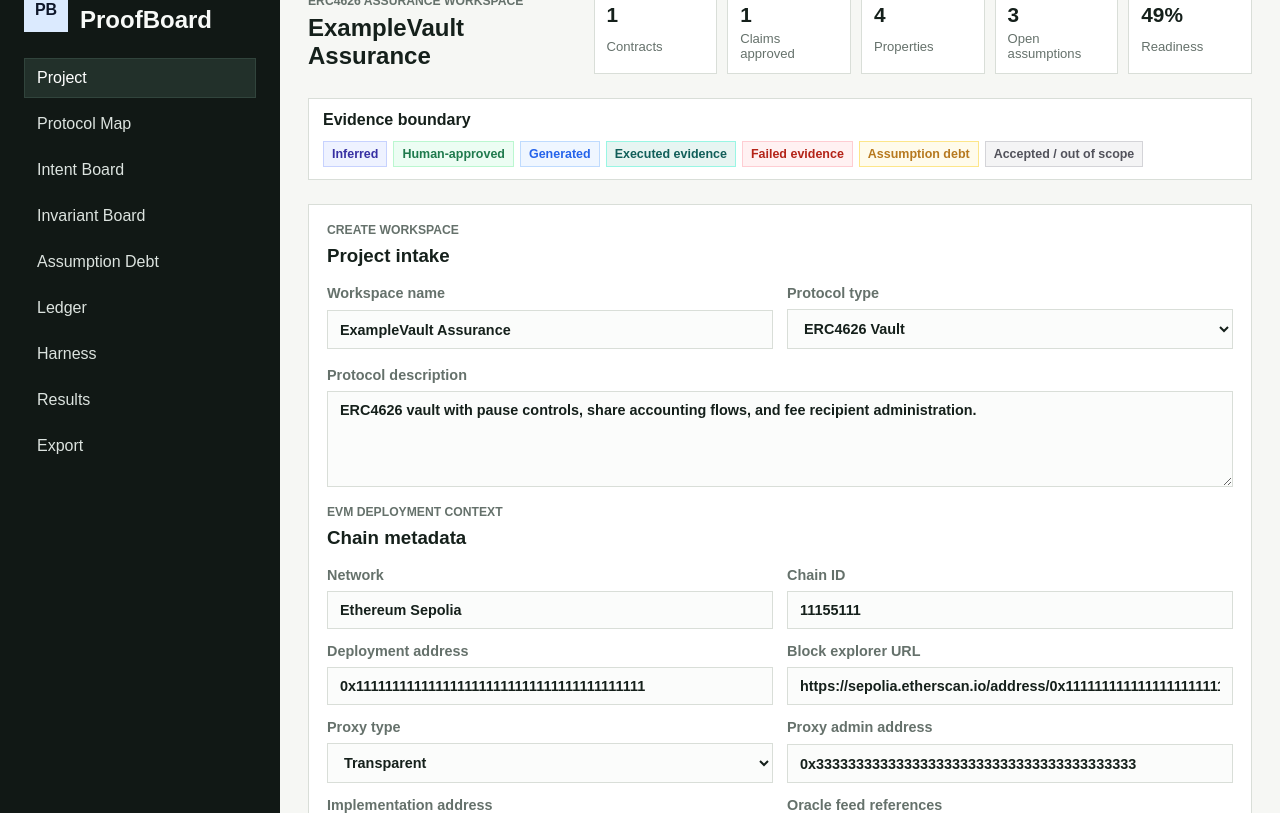
Scenario: ProofBoard workspace › shows runner validation failures without changing output
This screenshot has width=1280, height=813.
Click the button "Results": (140, 400) [24,380,256,420]
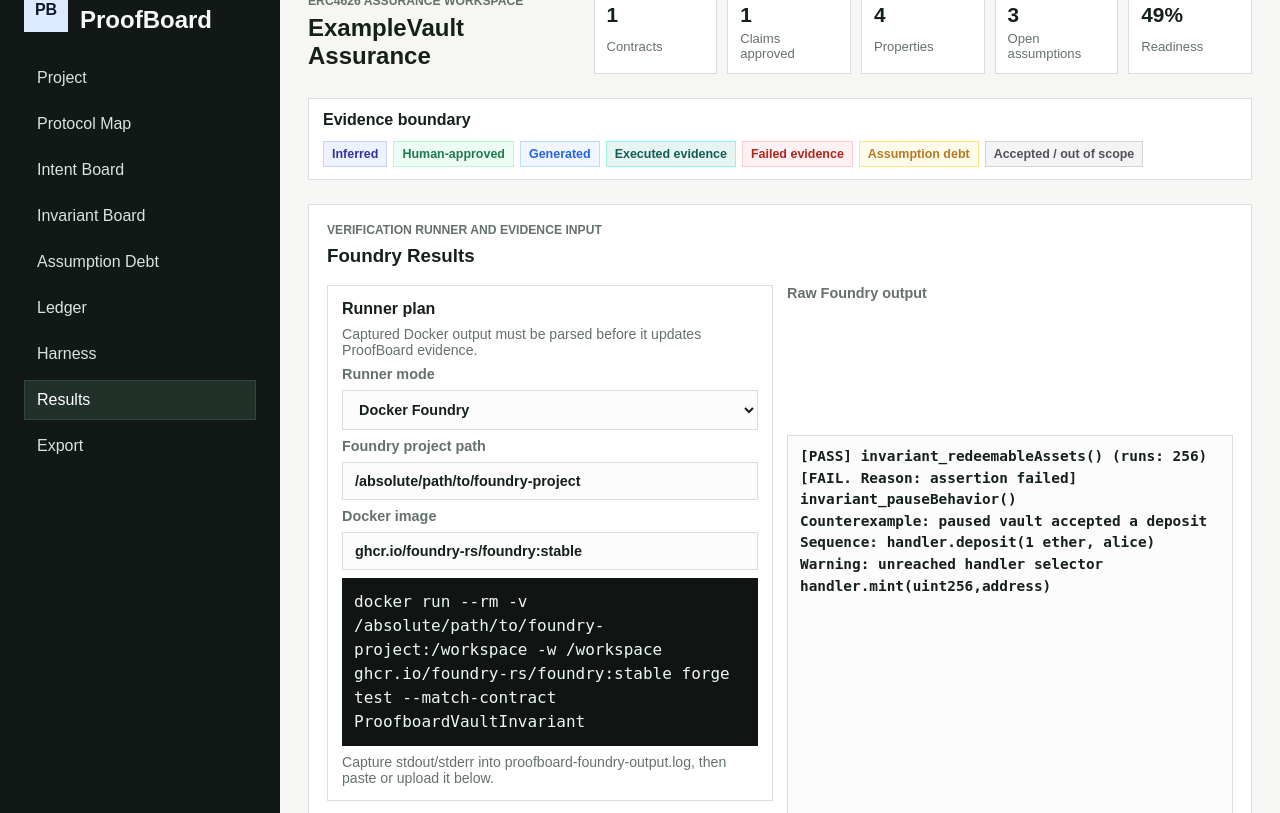
Replace the text in the field labelled "Foundry project path" with "relative-path": (550, 481) [342,462,758,500]
(page scrolled)
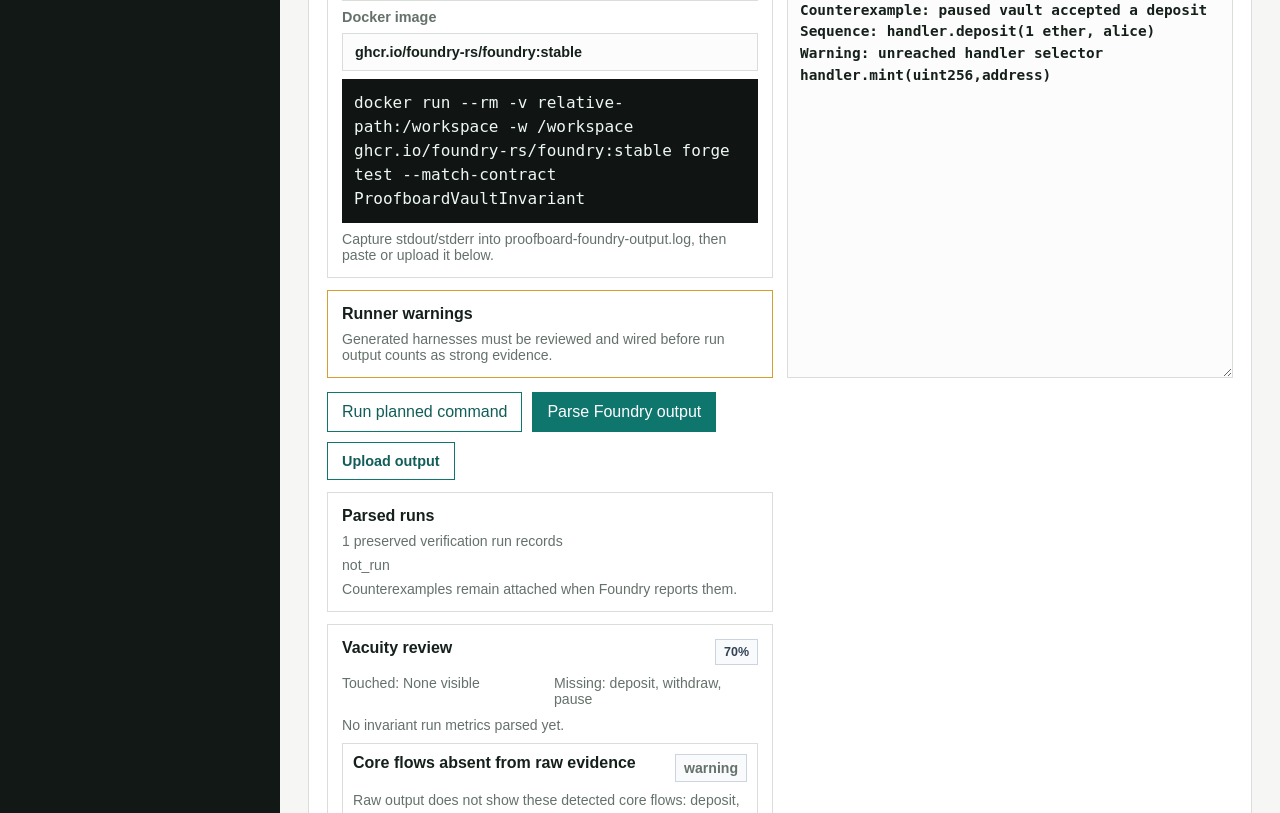
Click the button "Run planned command": (425, 412) [327,392,522,432]
(page scrolled)
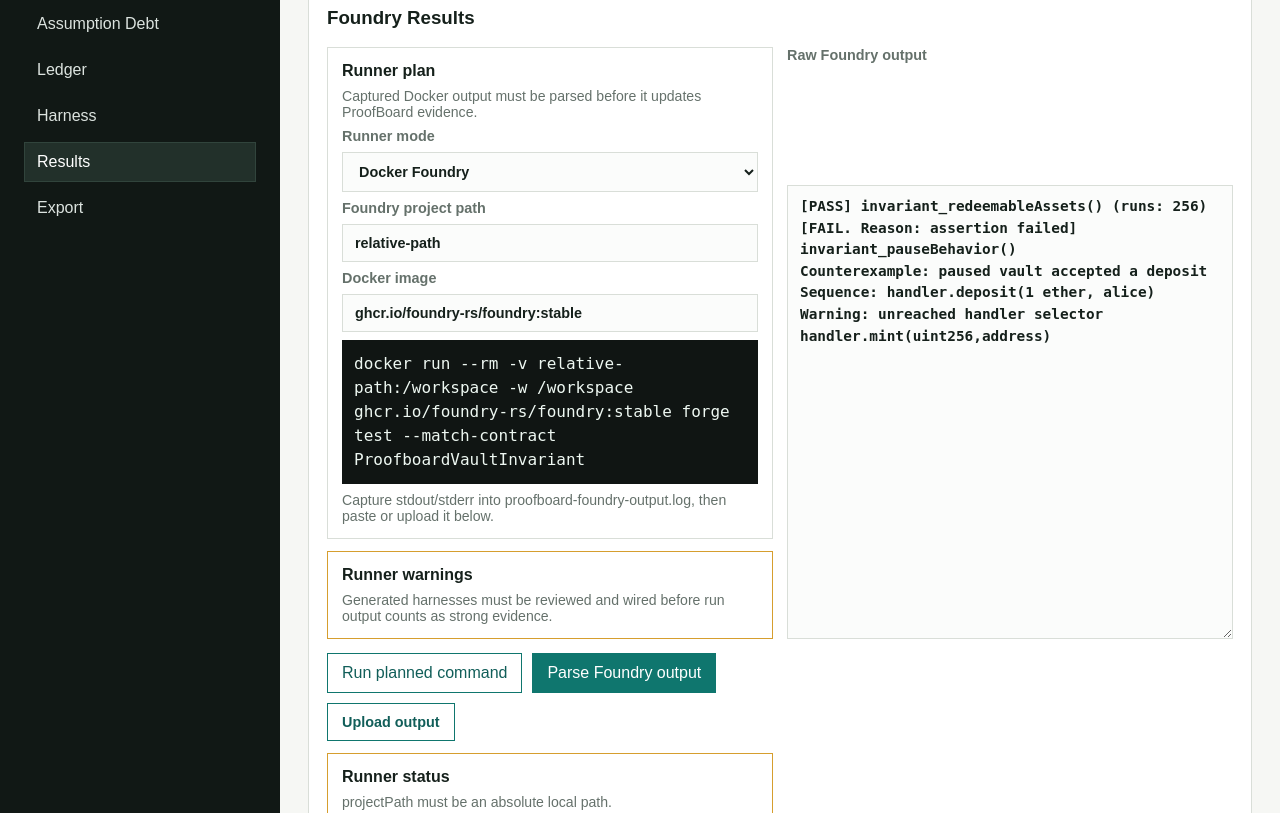
Result: the text "projectPath must be an absolute local path." is shown at [342,794,612,810]
